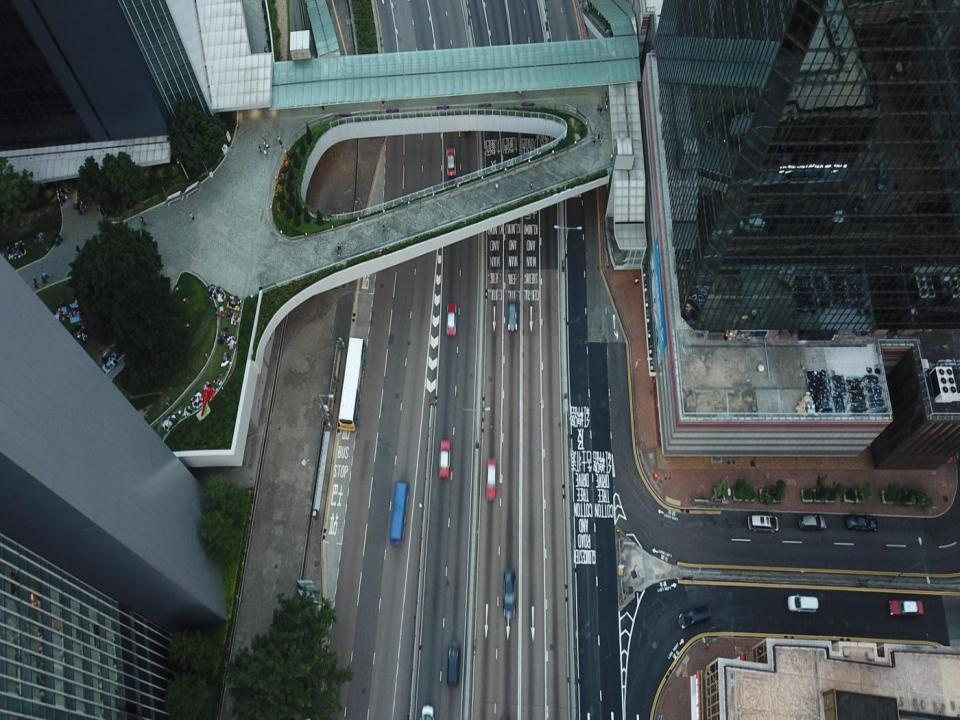bus: (339, 337, 365, 433), (390, 482, 409, 544)
car: (678, 606, 711, 632), (845, 512, 879, 534), (503, 567, 517, 617), (890, 598, 923, 616), (747, 516, 779, 534), (448, 639, 460, 686), (484, 458, 497, 500), (438, 438, 451, 478), (798, 513, 826, 528), (446, 303, 456, 337), (507, 298, 517, 332), (446, 148, 457, 177), (462, 107, 472, 134)
van: (788, 595, 818, 613)
